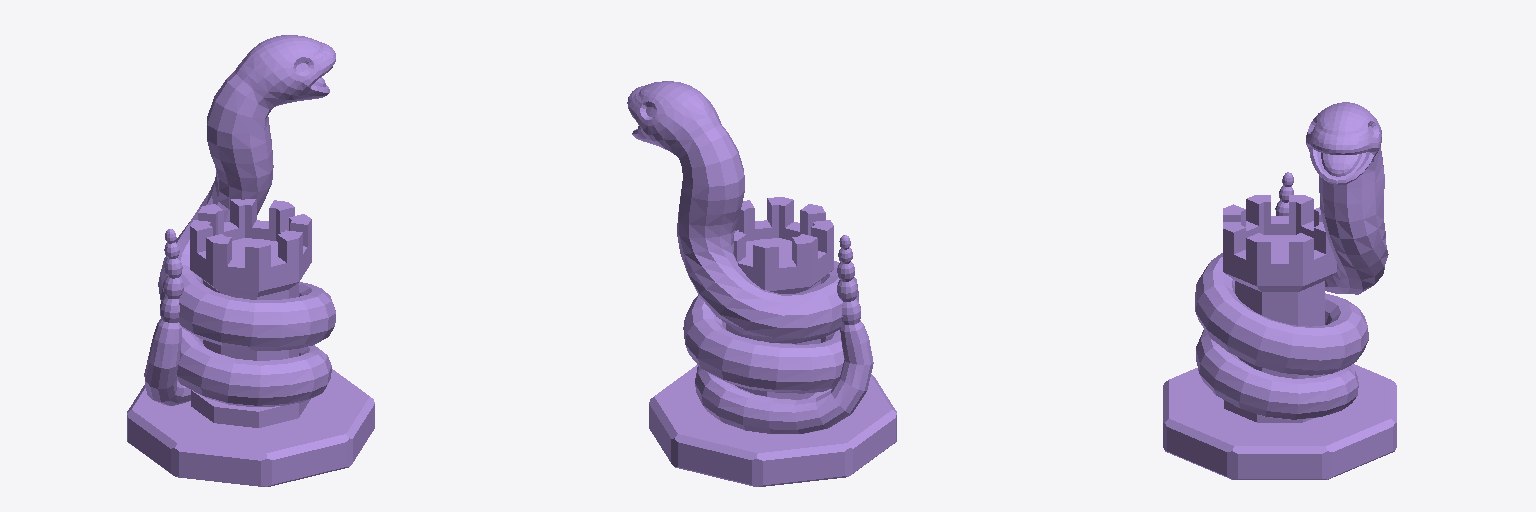
The model's file is Rook_Ekans.obj.
3 renders of one model, left to right at view 1: azimuth 30°, elevation 25°; view 2: azimuth 150°, elevation 25°; view 3: azimuth 270°, elevation 25°, orthographic.
Visible parts, largest first — view 1: Rook_Ekans; view 2: Rook_Ekans; view 3: Rook_Ekans.
Boxes of the visible parts, <box> form: Rook_Ekans: <box>127,35,374,486</box>; Rook_Ekans: <box>627,81,896,486</box>; Rook_Ekans: <box>1163,102,1396,479</box>.
Bounding box in the file's own units: 40.83 × 65.24 × 38.8.